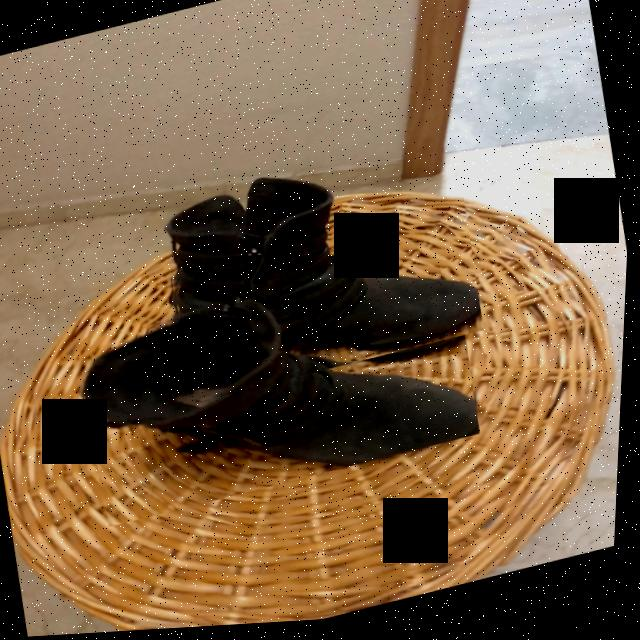shoe: (87, 308, 484, 472), (168, 181, 485, 359)
